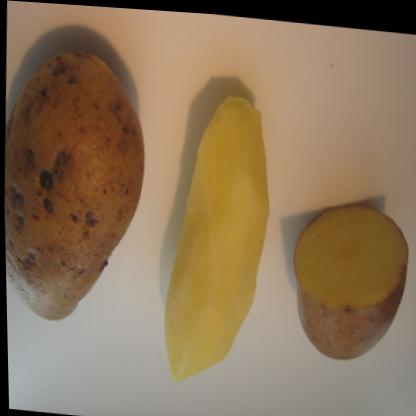potato: (0, 24, 152, 333), (147, 70, 277, 401)
